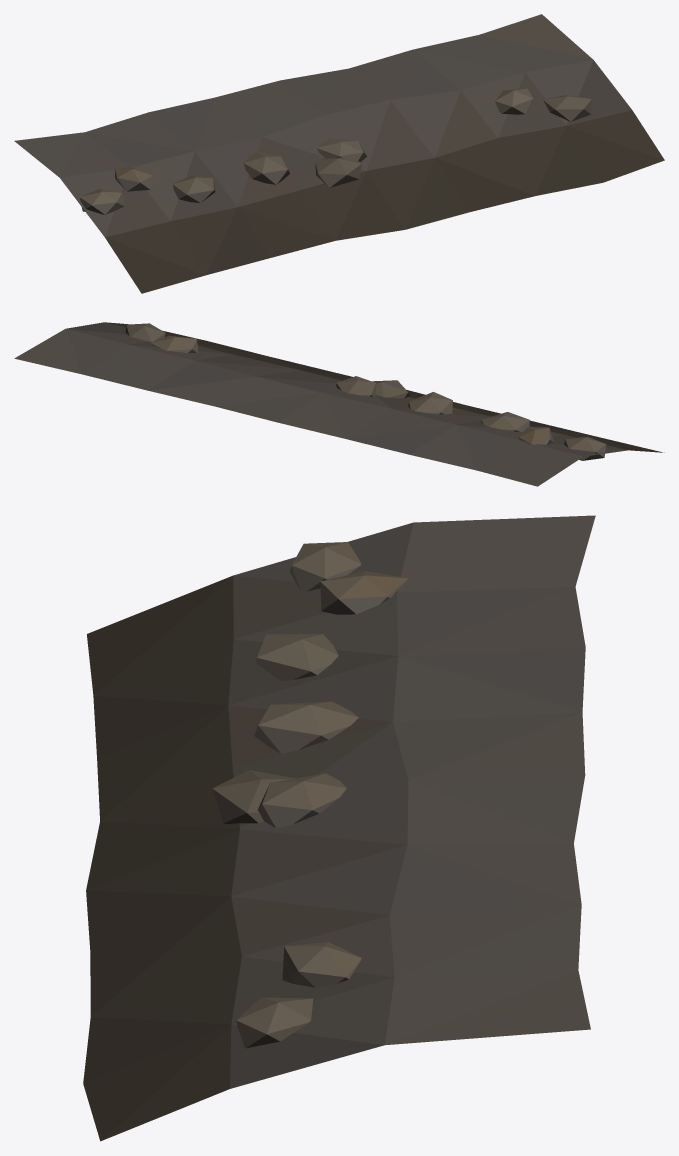
The model's file is bank_stone_lip_8m.glb.
3 views of the same model, one above another, from view 1: azimuth 30°, elevation 25°; view 2: azimuth 150°, elevation 25°; view 3: azimuth 270°, elevation 25° (orthographic). The views are drawn at different scales.
Visible parts, largest first — view 1: bank_stone_lip_8m; view 2: bank_stone_lip_8m; view 3: bank_stone_lip_8m.
Boxes of the visible parts, x1,y1,x2,y2 form: bank_stone_lip_8m: (14,14,664,293); bank_stone_lip_8m: (14,322,664,486); bank_stone_lip_8m: (83,515,595,1141).
Size of the model in its own units: 8 by 0.8732 by 3.38.
